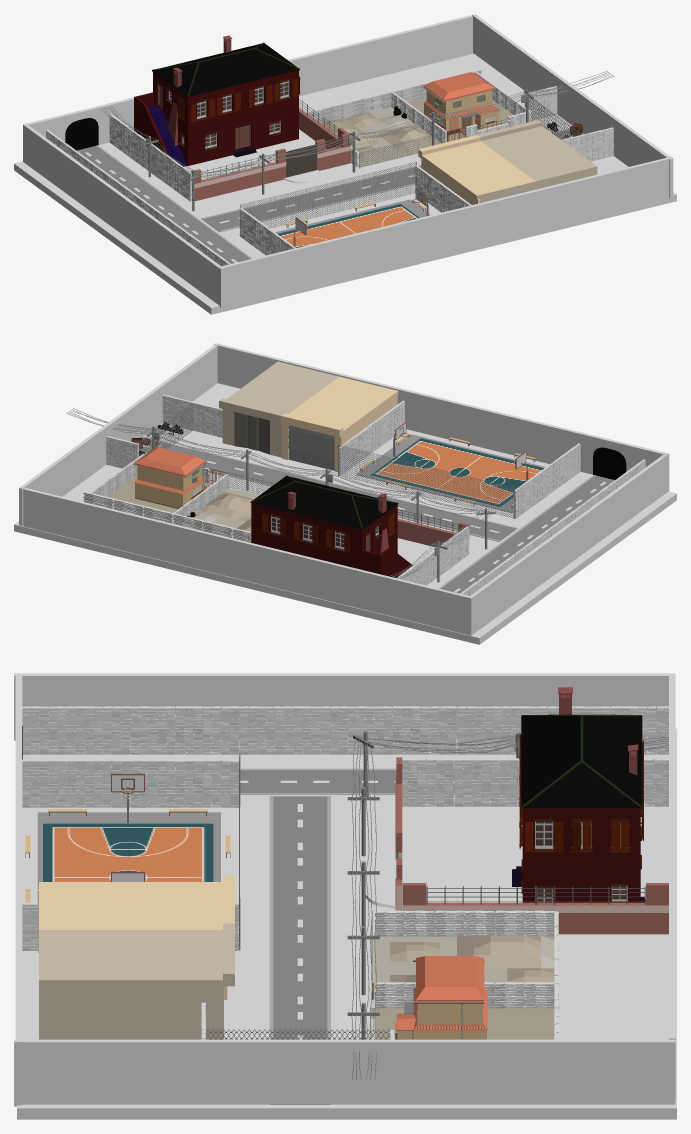
The model's file is House_Expanded.fbx.
The picture shows the model from 3 angles, top to bottom: view 1: azimuth 30°, elevation 25°; view 2: azimuth 150°, elevation 25°; view 3: azimuth 270°, elevation 25°; orthographic projection. The views are drawn at different scales.
Visible parts, largest first — view 1: Plane.005, Cube.009, Cube.008, Cube.028, Cube.043, Cube.010, Walls, Cube.011, Cube.030, Roof.001, Plane.004, Neighbors.Walls (+21 smaller); view 2: Cube.008, Plane.005, Cube.009, Cube.028, Cube.010, Cube.043, Cube.011, Court, Walls, Cube.030, Plane.004, Roof.001 (+20 smaller); view 3: Plane.005, Cube.028, Cube.011, Cube.043, Cube.010, Plane.004, Roof.001, Court, Walls, Neighbors.Walls, Plane.008, Cube.014 (+16 smaller).
Boxes of the visible parts, x1,y1,x2,y2 form: Plane.005: (14,53,676,314); Cube.009: (220,156,673,305); Cube.008: (23,15,472,144); Cube.028: (46,86,613,266); Cube.043: (418,120,597,203); Cube.010: (23,125,224,307); Walls: (152,70,299,165); Cube.011: (472,14,673,198); Cube.030: (241,162,415,228); Roof.001: (152,42,299,96); Plane.004: (201,128,583,232); Neighbors.Walls: (191,108,351,201); Cube.008: (23,488,472,635); Plane.005: (14,383,676,644); Cube.009: (214,343,666,474); Cube.028: (106,394,645,595); Cube.010: (470,453,669,635); Cube.043: (219,361,398,442); Cube.011: (19,345,217,525); Court: (370,438,543,506); Walls: (251,503,397,569); Cube.030: (339,445,513,518); Plane.004: (139,437,517,541); Roof.001: (250,475,398,529); Plane.005: (17,728,676,1119); Cube.028: (22,706,668,1039); Cube.011: (14,1039,675,1106); Cube.043: (39,875,234,1039); Cube.010: (14,673,668,740); Plane.004: (269,796,330,1104); Roof.001: (521,714,642,807); Court: (43,823,213,881); Walls: (512,808,645,902); Neighbors.Walls: (395,757,668,934); Plane.008: (373,935,554,999); Cube.014: (374,910,554,936).
Size of the model in its own units: 14335 by 2549 by 9778.
66 materials, 1 textured.
